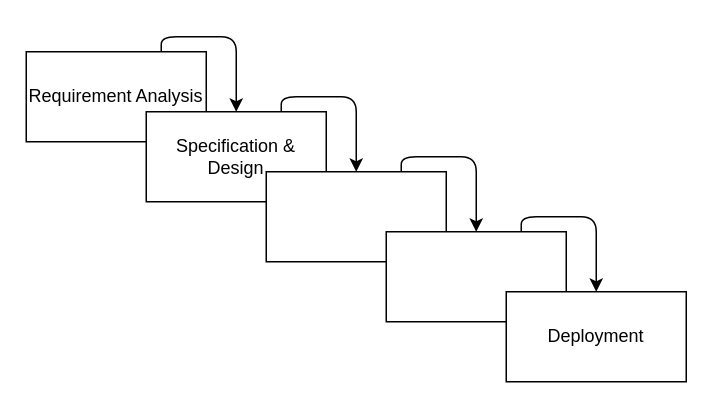
This 713x408 diagram has some shape labels left out. Each missing label, with the centre of its shape:
"Coding" goes at point 355,216.
"Testing" goes at point 475,276.
